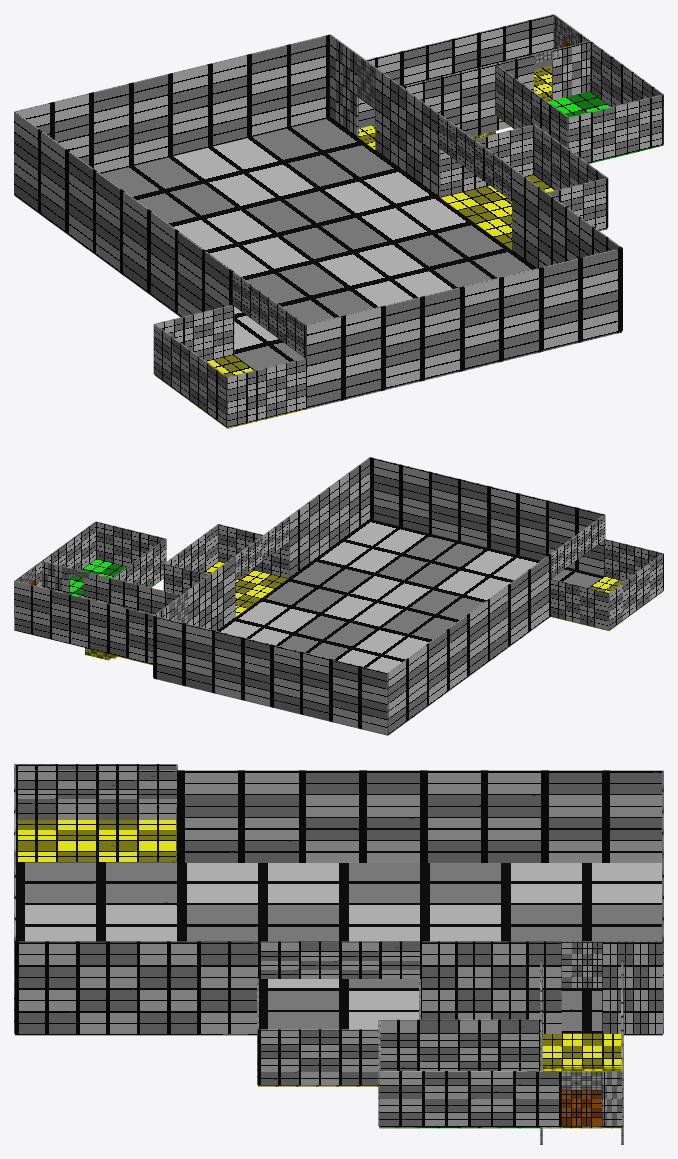
Rendered from Colliders.fbx.
3 renders of one model, top to bottom at view 1: azimuth 30°, elevation 25°; view 2: azimuth 150°, elevation 25°; view 3: azimuth 270°, elevation 25°, orthographic. The views are drawn at different scales.
Visible parts, largest first — view 1: Floor_9, Wall_3, Wall_2, Wall_9, Wall_15, Wall_4, Wall_16, Wall_12, Wall_11, Wall, Wall_17, Wall_24 (+13 smaller); view 2: Floor_9, Wall_2, Wall_3, Wall_9, Wall_15, Wall_4, Wall_16, Wall_12, Wall_1, Wall_17, Wall_11, Wall_23 (+11 smaller); view 3: Floor_9, Wall_9, Wall_4, Wall_16, Wall_18, Wall_22, Wall_8, Floor_7, Wall_6, Wall_5, Wall_10, Wall_17 (+5 smaller).
Boxes of the visible parts, bbox=[...] form: Floor_9: bbox=[14, 118, 621, 409]; Wall_3: bbox=[306, 248, 622, 407]; Wall_2: bbox=[14, 34, 329, 173]; Wall_9: bbox=[14, 112, 234, 353]; Wall_15: bbox=[358, 14, 553, 128]; Wall_4: bbox=[512, 168, 622, 330]; Wall_16: bbox=[375, 68, 439, 197]; Wall_12: bbox=[403, 55, 533, 136]; Wall_11: bbox=[568, 94, 663, 162]; Wall: bbox=[227, 358, 306, 427]; Wall_17: bbox=[153, 324, 227, 426]; Wall_24: bbox=[439, 124, 534, 197]; Floor_9: bbox=[153, 519, 603, 735]; Wall_2: bbox=[153, 616, 387, 734]; Wall_3: bbox=[370, 457, 604, 575]; Wall_9: bbox=[388, 554, 551, 734]; Wall_15: bbox=[14, 581, 153, 664]; Wall_4: bbox=[288, 457, 370, 578]; Wall_16: bbox=[186, 556, 235, 630]; Wall_12: bbox=[83, 572, 186, 623]; Wall_1: bbox=[551, 578, 609, 629]; Wall_17: bbox=[609, 553, 663, 629]; Wall_11: bbox=[96, 521, 166, 566]; Wall_23: bbox=[218, 524, 288, 578]; Floor_9: bbox=[15, 862, 662, 1035]; Wall_9: bbox=[177, 770, 662, 862]; Wall_4: bbox=[15, 941, 257, 1033]; Wall_16: bbox=[420, 941, 561, 1033]; Wall_18: bbox=[379, 1071, 561, 1126]; Wall_22: bbox=[379, 1019, 540, 1070]; Wall_8: bbox=[258, 1029, 378, 1085]; Floor_7: bbox=[16, 820, 175, 862]; Wall_6: bbox=[258, 941, 419, 978]; Wall_5: bbox=[15, 770, 176, 807]; Wall_10: bbox=[602, 941, 662, 1033]; Wall_17: bbox=[15, 764, 176, 819].
Size of the model in its own units: 3810 by 560 by 3210.
4 materials, 4 textured.
